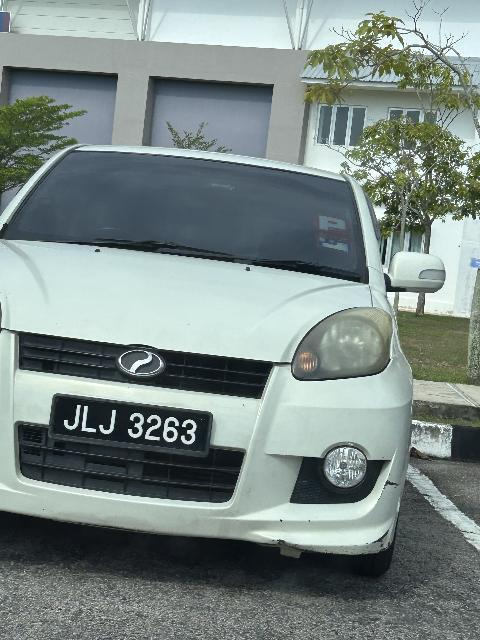JLJ3263: (41, 395, 218, 463)
License_Plate: (41, 395, 218, 463)
